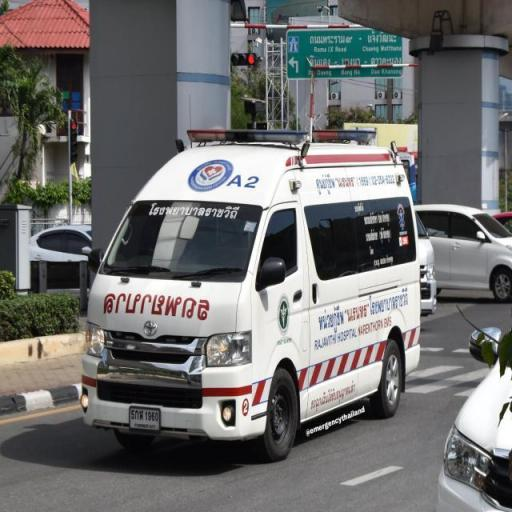Police car: (78, 124, 428, 466)
